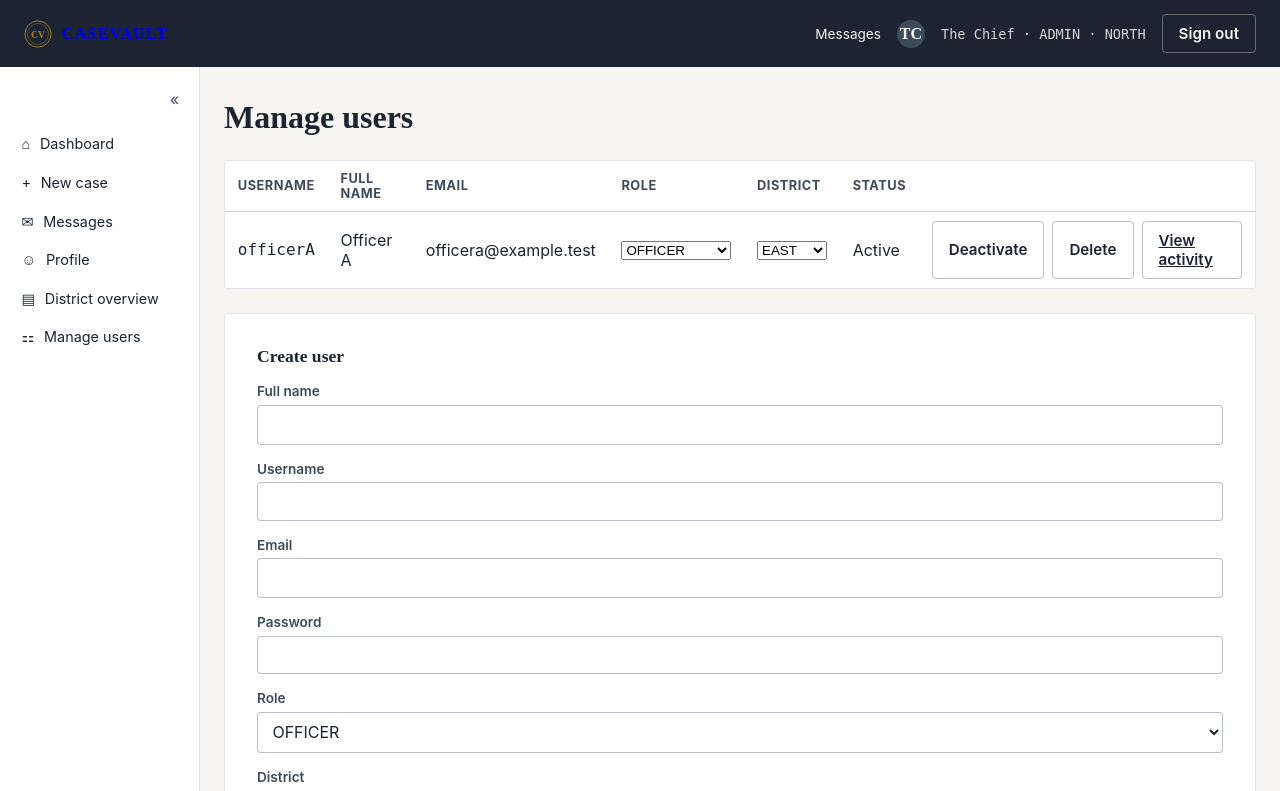
Test: ManageUsersPage › deletes a user with no history
The width and height of the screenshot is (1280, 791).
Expected: the text "officerA" is shown, [225,211,328,288]
Click the button with aria-label "delete officera" at (1093, 250), box [1052,221,1134,279]
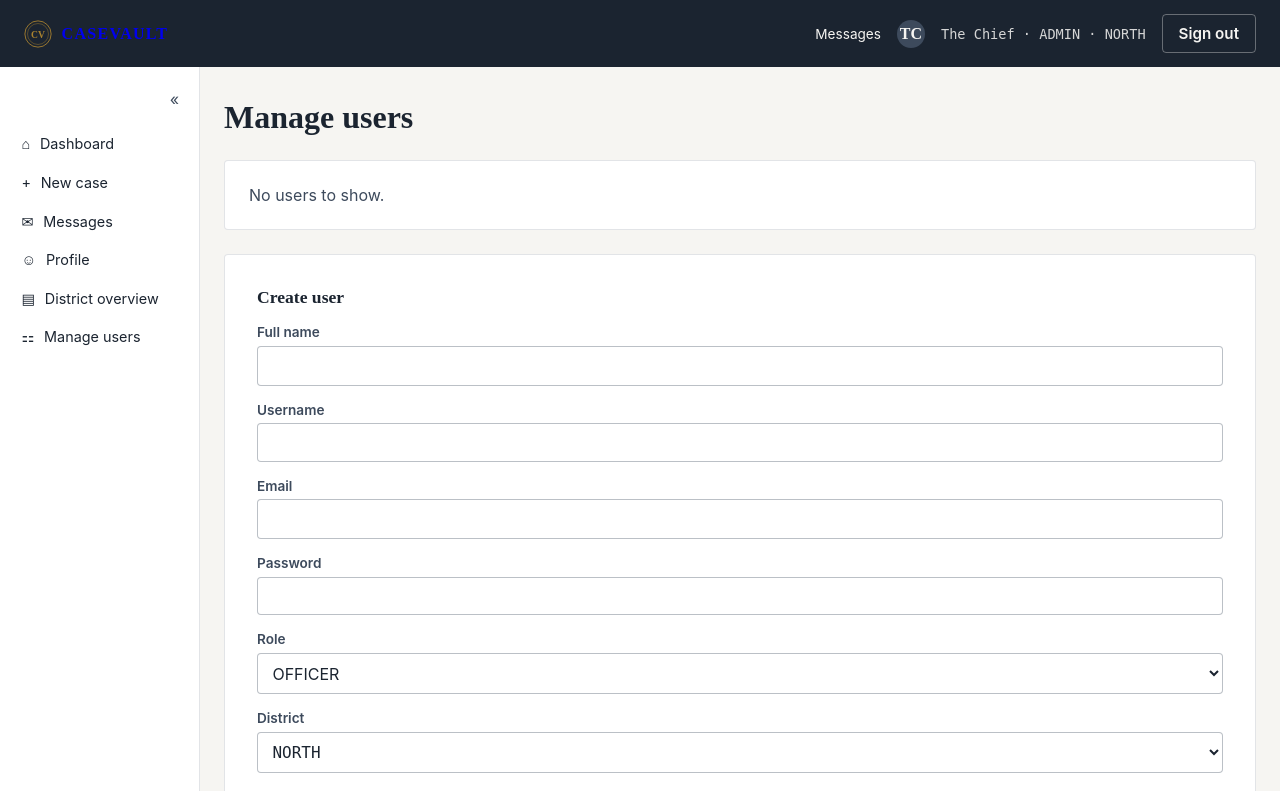
Result: the text "officerA" is gone
